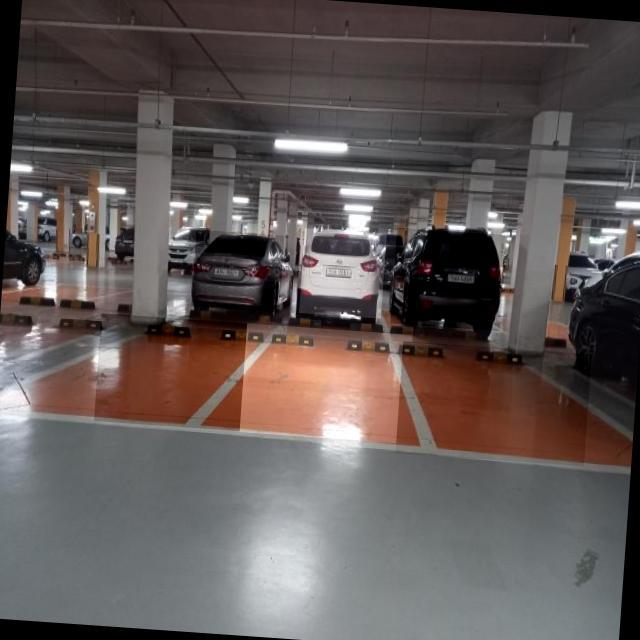empty: (395, 341, 591, 466), (240, 322, 412, 443), (94, 313, 249, 431)
occupied: (390, 227, 506, 331), (298, 228, 386, 318), (190, 229, 284, 312)
